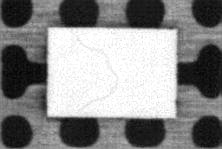DIE_CRACK: (75, 36, 120, 111)
